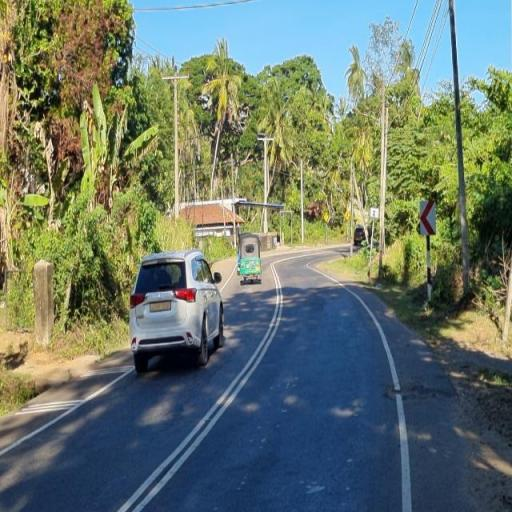double_white_line: (112, 255, 286, 512)
